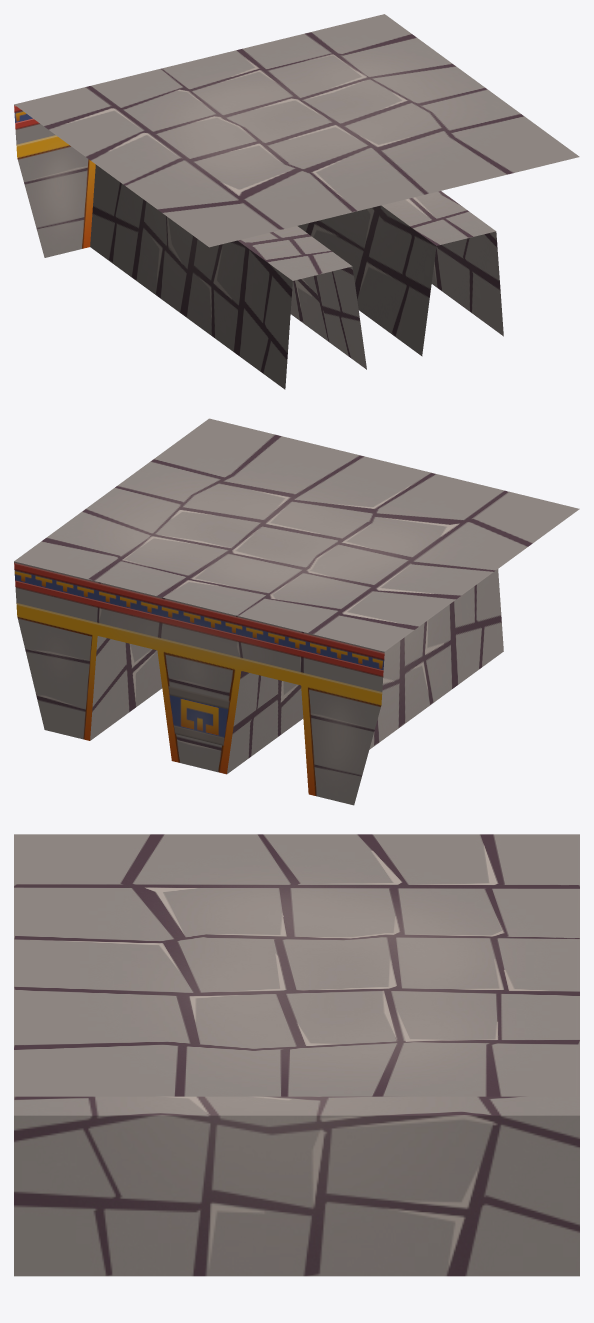
Rendered from ham2.fbx.
The picture shows the model from 3 angles, top to bottom: view 1: azimuth 30°, elevation 25°; view 2: azimuth 150°, elevation 25°; view 3: azimuth 270°, elevation 25°; orthographic projection. The views are drawn at different scales.
Visible parts, largest first — view 1: pCube62; view 2: pCube62; view 3: pCube62.
Part boxes in pixels (x1=…): pCube62: x1=14, y1=14, x2=579, y2=389; pCube62: x1=14, y1=418, x2=579, y2=805; pCube62: x1=14, y1=834, x2=579, y2=1276.
Bounding box in the file's own units: 75.17 × 31.21 × 68.56.
